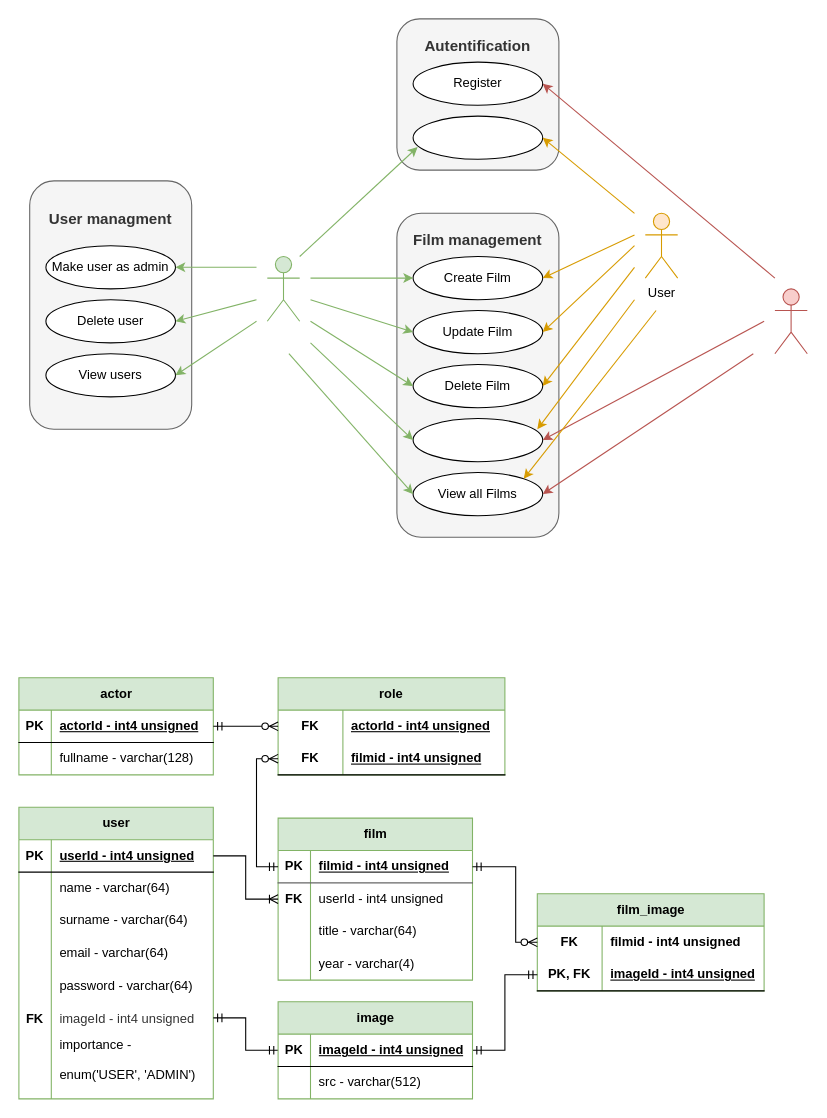
This 827x1118 diagram has some shape labels left out. Each missing label, with the centre of its shape:
"Admin" goes at [283,288].
"LogIn" goes at [477,137].
"View Film" goes at [477,439].
"Visitor" goes at [790,321].
